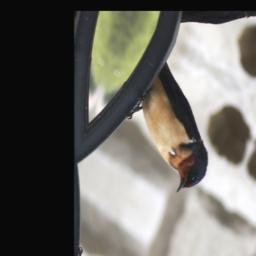Swallow: (112, 47, 232, 207)
